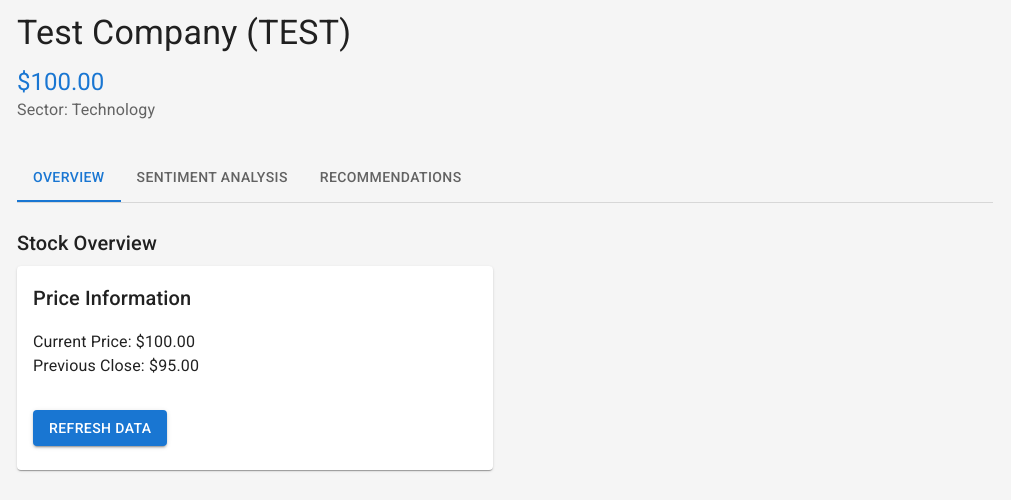
Test: sets error if refreshSentiment throws in handleRefreshSentiment()
Click the tab "Sentiment Analysis". click: (212, 178)
box: [121, 154, 304, 202]
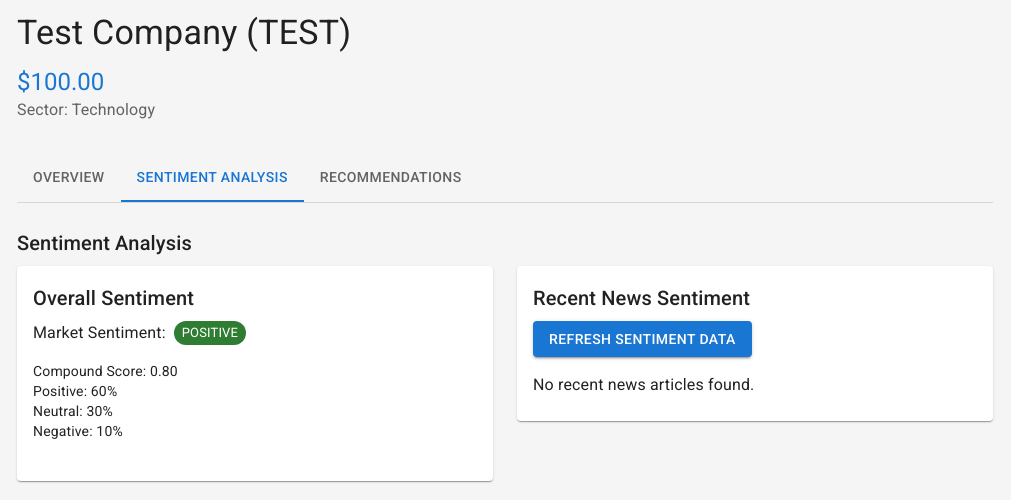
Click the button "Refresh Sentiment Data". click: (642, 339)
box: [533, 321, 752, 357]
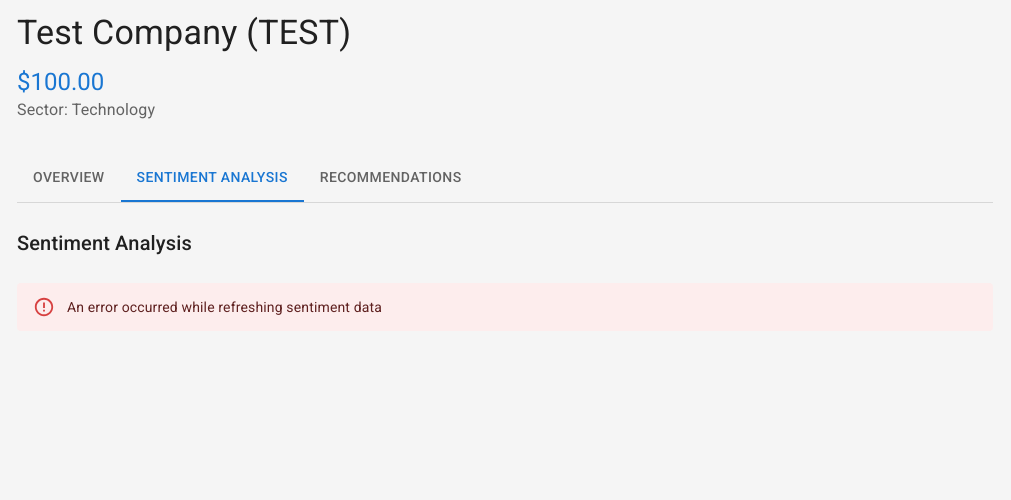
Check: the text "An error occurred while refreshing sentiment data" is shown, box [67, 299, 382, 315]
